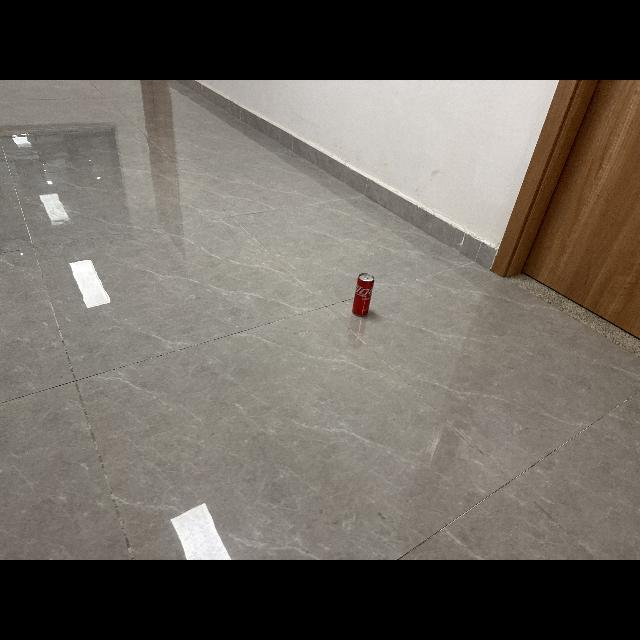Cola: (351, 269, 379, 321)
